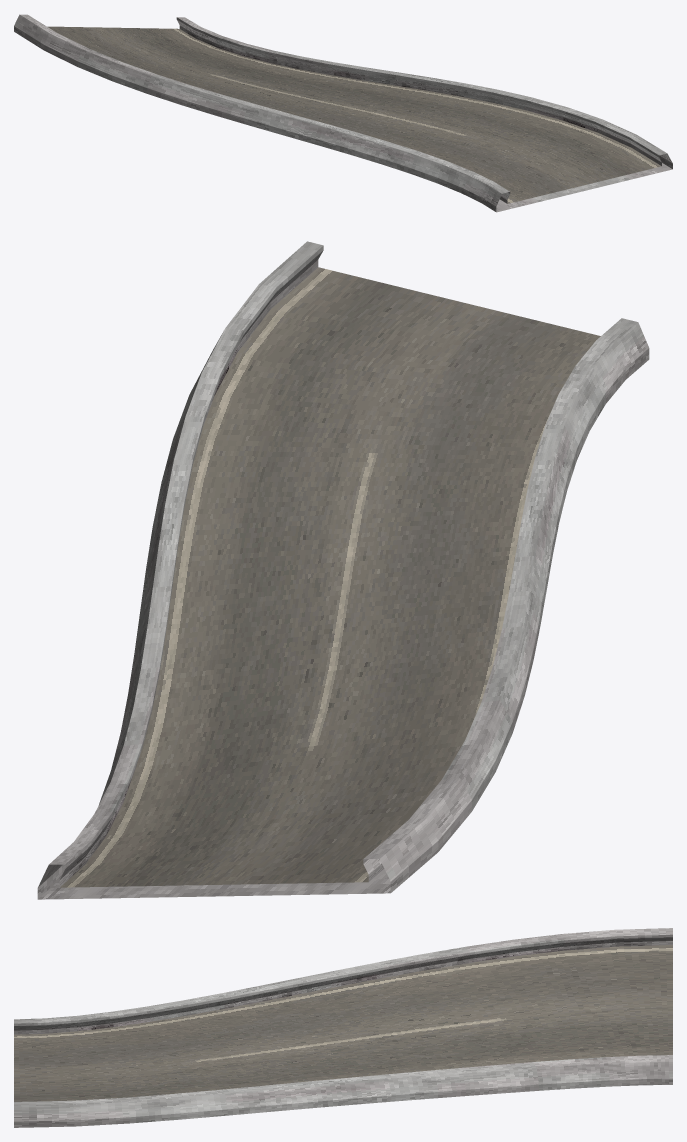
File: road-Chicane-Flat-HalfBankedRight-Down1-Left1-Size3.glb
3 views of the same model, one above another, from view 1: azimuth 30°, elevation 25°; view 2: azimuth 150°, elevation 25°; view 3: azimuth 270°, elevation 25° (orthographic). The views are drawn at different scales.
Parts seen in each view (by area): view 1: road-Chicane-Flat-HalfBankedRight-Down1-Left1-Size3; view 2: road-Chicane-Flat-HalfBankedRight-Down1-Left1-Size3; view 3: road-Chicane-Flat-HalfBankedRight-Down1-Left1-Size3.
Boxes of the visible parts, x1,y1,x2,y2 form: road-Chicane-Flat-HalfBankedRight-Down1-Left1-Size3: (14, 14, 672, 212); road-Chicane-Flat-HalfBankedRight-Down1-Left1-Size3: (37, 241, 649, 899); road-Chicane-Flat-HalfBankedRight-Down1-Left1-Size3: (14, 928, 672, 1127).
Size of the model in its own units: 2 by 0.3438 by 3.
2 materials, 2 textured.
